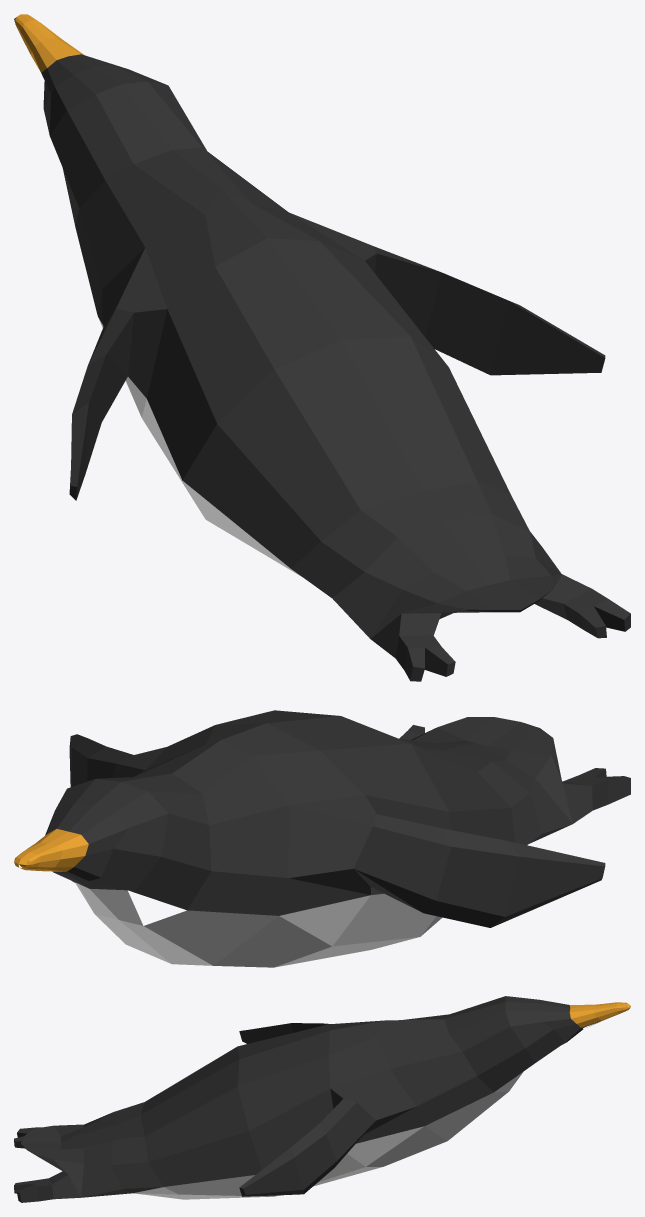
3 renders of one model, top to bottom at view 1: azimuth 30°, elevation 25°; view 2: azimuth 150°, elevation 25°; view 3: azimuth 270°, elevation 25°, orthographic. The views are drawn at different scales.
Visible parts, largest first — view 1: Penguin; view 2: Penguin; view 3: Penguin.
Part boxes in pixels (box(x1,y1,x2,y2)): Penguin: box(14, 14, 630, 681); Penguin: box(14, 710, 630, 967); Penguin: box(14, 996, 630, 1202).
Size of the model in its own units: 591 by 320 by 973.
